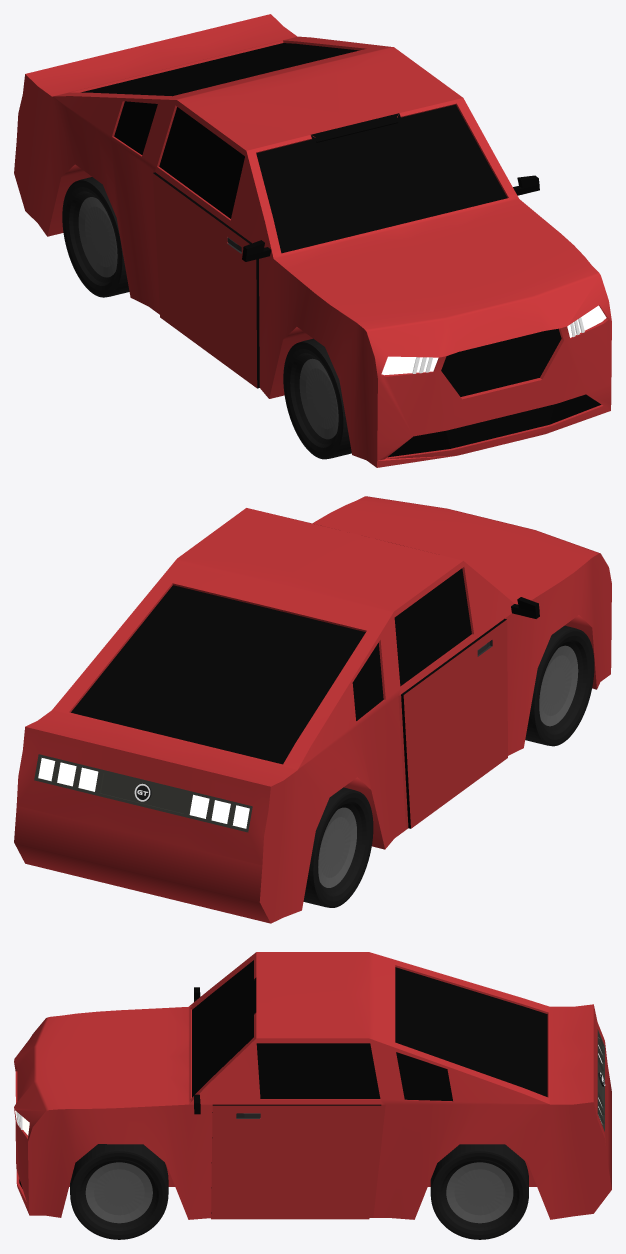
File: mustang_2020_low_poly_-_rigged.glb
The picture shows the model from 3 angles, top to bottom: view 1: azimuth 30°, elevation 25°; view 2: azimuth 150°, elevation 25°; view 3: azimuth 270°, elevation 25°; orthographic projection. The views are drawn at different scales.
Parts seen in each view (by area): view 1: Mustang_Body_8, Mustang_Body_Tire_FR_12, Mustang_Body_Tire_BR_16; view 2: Mustang_Body_8, Mustang_Body_Tire_BR_16, Mustang_Body_Tire_FR_12; view 3: Mustang_Body_8, Mustang_Body_Tire_FL_10, Mustang_Body_Tire_BL_14.
Part boxes in pixels (x1=…): Mustang_Body_8: x1=14, y1=14, x2=611, y2=467; Mustang_Body_Tire_FR_12: x1=283, y1=338, x2=351, y2=459; Mustang_Body_Tire_BR_16: x1=62, y1=177, x2=129, y2=297; Mustang_Body_8: x1=14, y1=496, x2=611, y2=923; Mustang_Body_Tire_BR_16: x1=303, y1=787, x2=373, y2=907; Mustang_Body_Tire_FR_12: x1=525, y1=625, x2=594, y2=746; Mustang_Body_8: x1=14, y1=952, x2=611, y2=1219; Mustang_Body_Tire_FL_10: x1=70, y1=1144, x2=168, y2=1239; Mustang_Body_Tire_BL_14: x1=430, y1=1144, x2=528, y2=1239.
Size of what is drawn, in the model's own units: 2.38 by 1.85 by 5.14.
